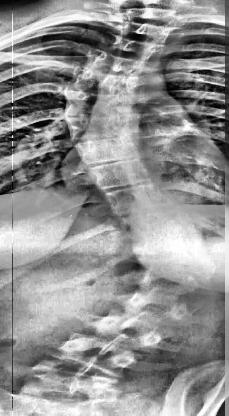Vertebrae: (58, 334, 140, 374), (92, 312, 168, 352), (32, 358, 114, 394), (118, 293, 190, 329), (146, 252, 220, 286), (122, 210, 194, 244), (134, 279, 204, 313), (105, 183, 175, 215), (136, 234, 205, 264), (87, 160, 159, 188), (75, 67, 139, 93), (76, 136, 140, 162), (62, 83, 130, 107), (63, 101, 127, 125), (91, 51, 147, 75), (67, 122, 133, 142), (118, 20, 172, 44), (109, 36, 162, 58), (120, 5, 178, 25)
